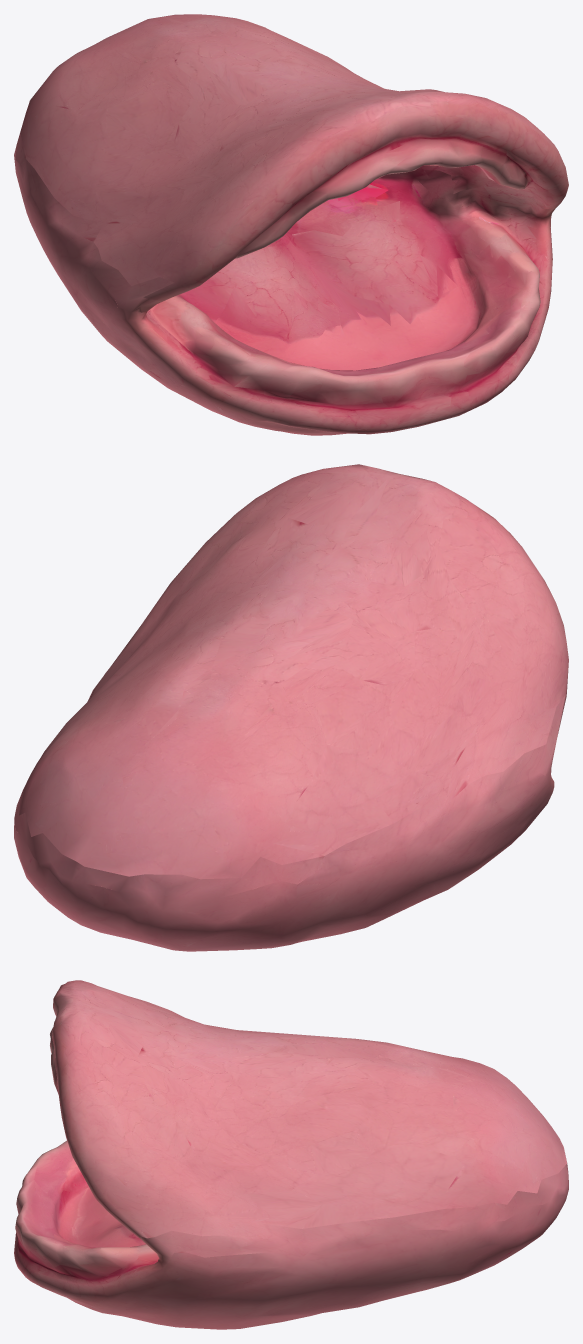
File: Mouth.fbx
The picture shows the model from 3 angles, top to bottom: view 1: azimuth 30°, elevation 25°; view 2: azimuth 150°, elevation 25°; view 3: azimuth 270°, elevation 25°; orthographic projection. The views are drawn at different scales.
Parts seen in each view (by area): view 1: Mouth_B, Mouth_B.001; view 2: Mouth_B.001, Mouth_B; view 3: Mouth_B.001, Mouth_B.
Part boxes in pixels (x1,y1,x2,y2): Mouth_B: [14, 123, 556, 435]; Mouth_B.001: [20, 14, 568, 300]; Mouth_B.001: [19, 464, 568, 879]; Mouth_B: [14, 677, 565, 951]; Mouth_B.001: [50, 980, 566, 1238]; Mouth_B: [14, 1140, 568, 1329].
Bounding box in the file's own units: 1.45 × 1.19 × 1.93.
Materials: 1 (1 with a texture image).
